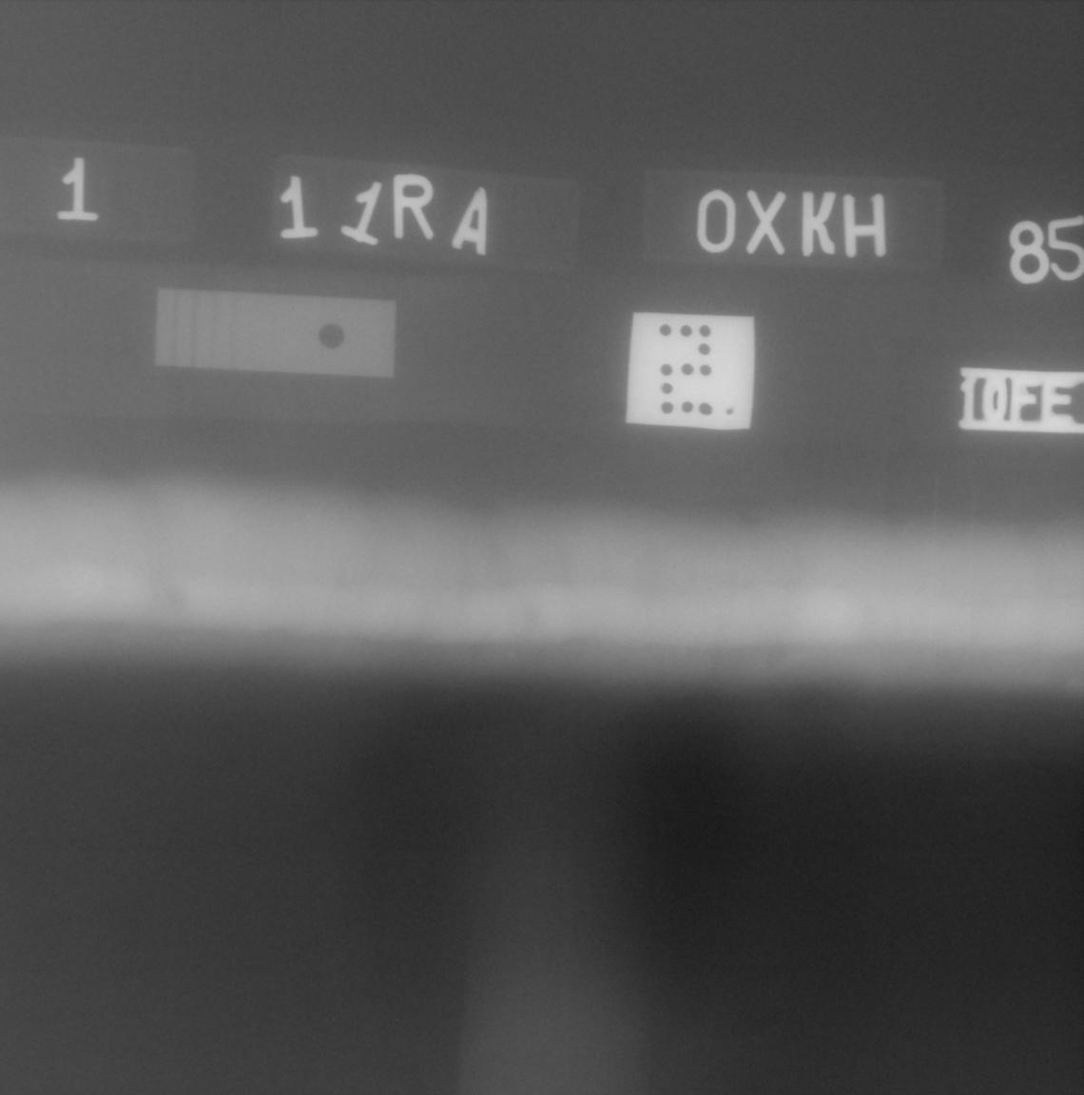Reference Standard 1: (154, 287, 398, 378)
